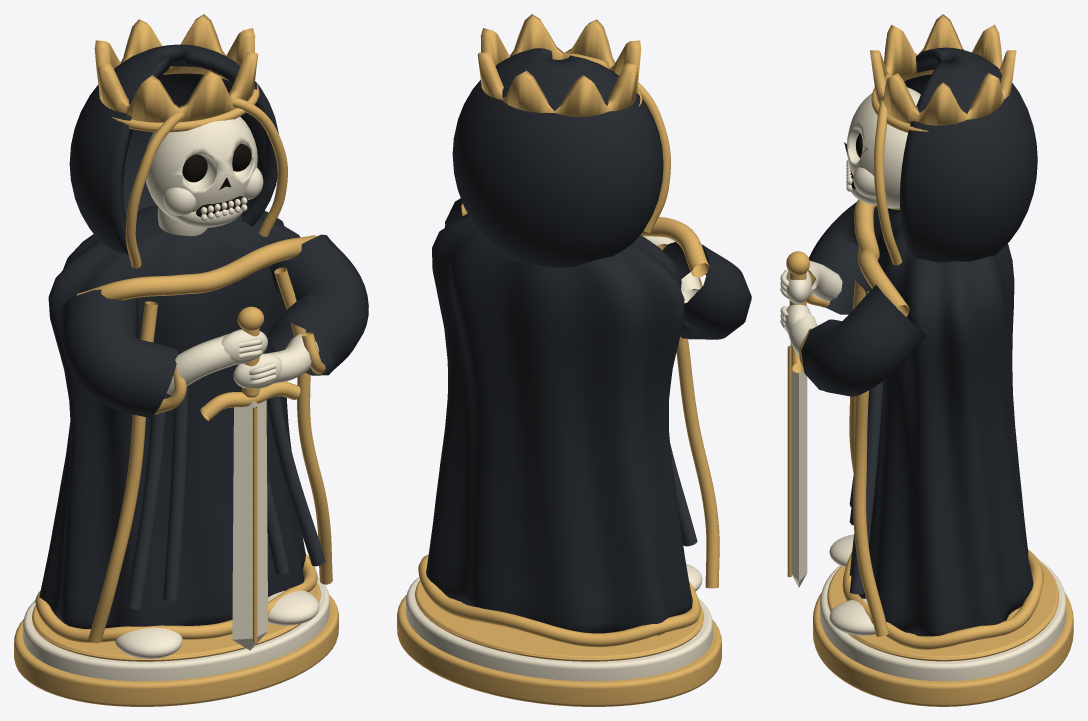
The model's file is black-king.glb.
The picture shows the model from 3 angles, left to right: view 1: azimuth 30°, elevation 25°; view 2: azimuth 150°, elevation 25°; view 3: azimuth 270°, elevation 25°; orthographic projection. The views are drawn at different scales.
Visible parts, largest first — view 1: Robe · continuous folded volume, Hood · open domed shell, Sleeve · -1, Pedestal · gold footing, Crown · eight raised points, Sleeve · 1, Sword · ivory diamond blade, Pedestal · ivory, Skull · cranium, Mantle · gold shoulder sweep, Robe · left sweeping gold border, Hood · golden face rim (+21 smaller); view 2: Robe · continuous folded volume, Hood · open domed shell, Pedestal · gold footing, Crown · eight raised points, Pedestal · ivory, Pedestal · gold upper lip, Sleeve · -1, Robe · lower gold hem, Robe · left sweeping gold border, Mantle · gold shoulder sweep, Hood · golden face rim, Robe · broad raised fold (+1 smaller); view 3: Robe · continuous folded volume, Hood · open domed shell, Sleeve · 1, Crown · eight raised points, Pedestal · gold footing, Pedestal · ivory, Pedestal · gold upper lip, Sword · ivory diamond blade, Robe · right sweeping gold border, Sleeve · -1, Robe · lower gold hem, Skull · cranium (+12 smaller).
Part boxes in pixels (box(x1,y1,x2,y2)): Robe · continuous folded volume: box(39, 205, 305, 628); Hood · open domed shell: box(69, 44, 278, 254); Sleeve · -1: box(61, 289, 177, 418); Pedestal · gold footing: box(14, 595, 338, 706); Crown · eight raised points: box(94, 14, 258, 122); Sleeve · 1: box(268, 234, 368, 375); Sword · ivory diamond blade: box(232, 400, 268, 650); Pedestal · ivory: box(23, 578, 329, 681); Skull · cranium: box(146, 106, 257, 222); Mantle · gold shoulder sweep: box(77, 235, 316, 300); Robe · left sweeping gold border: box(88, 301, 158, 643); Hood · golden face rim: box(125, 96, 287, 268); Robe · continuous folded volume: box(426, 213, 692, 635); Hood · open domed shell: box(452, 48, 663, 267); Pedestal · gold footing: box(397, 595, 721, 706); Crown · eight raised points: box(477, 14, 641, 116); Pedestal · ivory: box(406, 577, 712, 681); Pedestal · gold upper lip: box(415, 580, 703, 661); Sleeve · -1: box(662, 242, 751, 339); Robe · lower gold hem: box(418, 554, 700, 647); Robe · left sweeping gold border: box(657, 244, 719, 588); Mantle · gold shoulder sweep: box(461, 203, 709, 277); Hood · golden face rim: box(562, 53, 670, 232); Robe · broad raised fold: box(670, 443, 697, 546); Robe · continuous folded volume: box(859, 212, 1033, 636); Hood · open domed shell: box(900, 47, 1037, 262); Sleeve · 1: box(801, 284, 926, 396); Crown · eight raised points: box(870, 14, 1016, 125); Pedestal · gold footing: box(813, 592, 1073, 706); Pedestal · ivory: box(820, 559, 1066, 681); Pedestal · gold upper lip: box(827, 561, 1059, 661); Sword · ivory diamond blade: box(790, 342, 807, 587); Robe · right sweeping gold border: box(853, 291, 888, 636); Sleeve · -1: box(809, 202, 900, 314); Robe · lower gold hem: box(842, 549, 1043, 649); Skull · cranium: box(847, 87, 920, 208).
Bounding box in the file's own units: 1.82 × 3.53 × 1.6.
